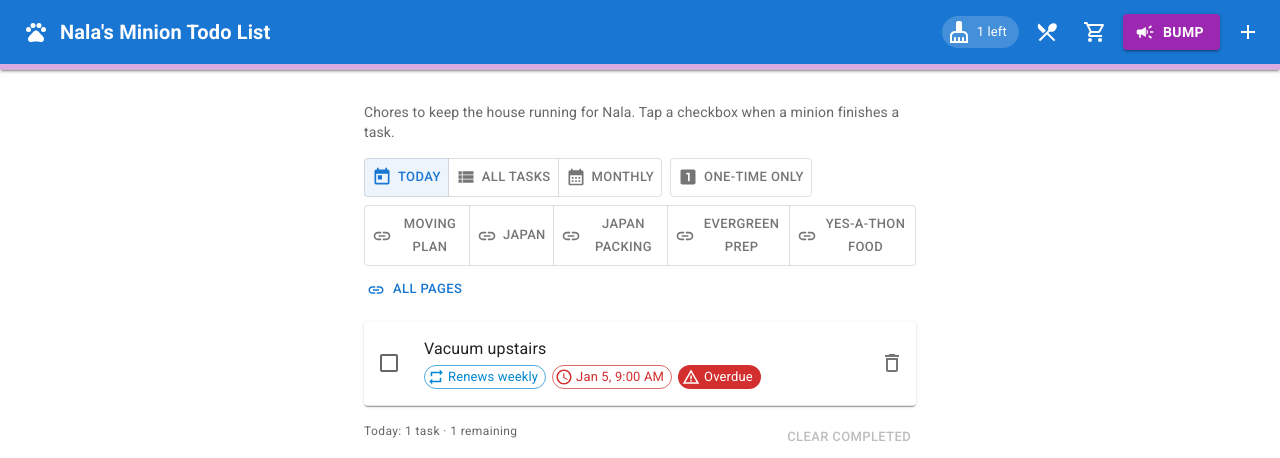
Scenario: one-time only filter › explains an empty list caused by the filter
What coordinates should you click on to do the following:
click the button with aria-label "one-time chores only"
I would click on:
 (741, 177)
Its box is [670,158,812,197].
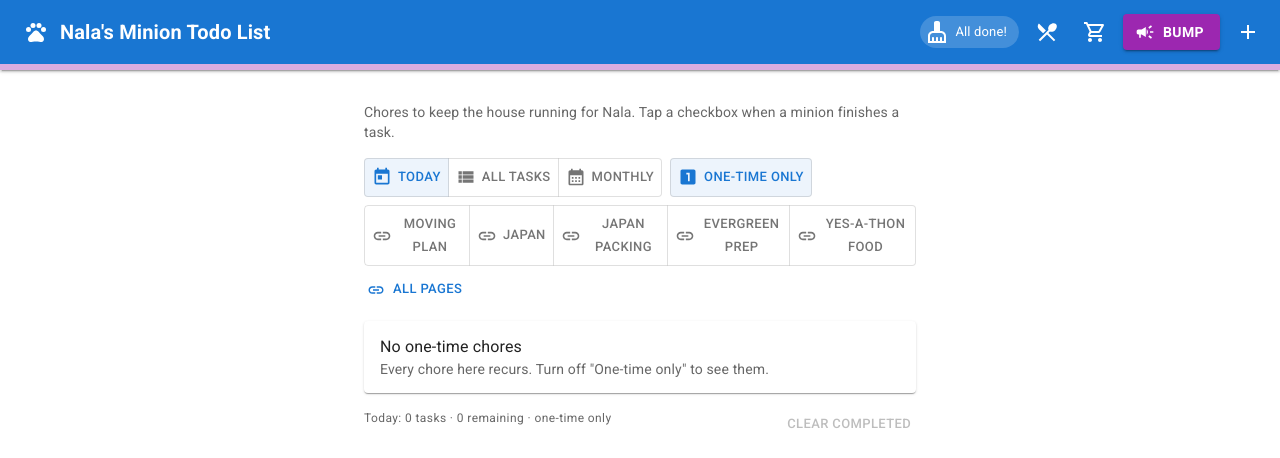
Expected: the text "No one-time chores" is shown, [380,337,522,356]
